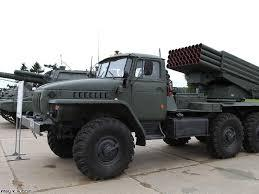MIL_SAM_TEL: (36, 42, 259, 179)
